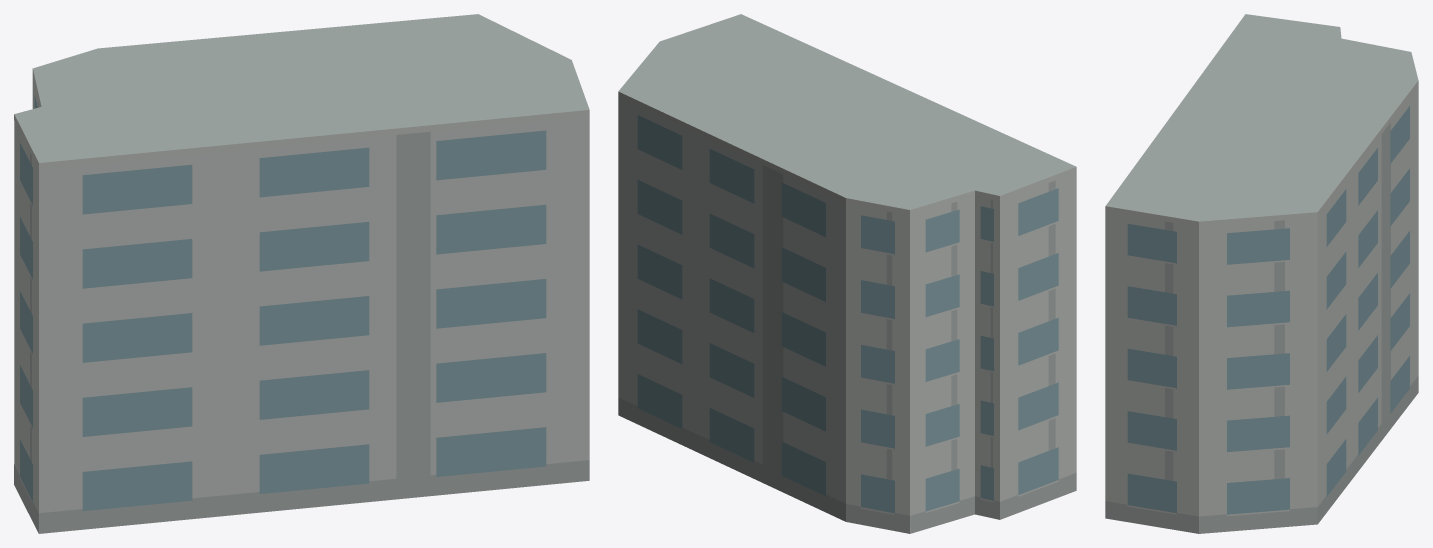
Rendered from survey-upis-32638380.glb.
3 renders of one model, left to right at view 1: azimuth 30°, elevation 25°; view 2: azimuth 150°, elevation 25°; view 3: azimuth 270°, elevation 25°, orthographic. The views are drawn at different scales.
Parts seen in each view (by area): view 1: survey-upis-32638380.tmp; view 2: survey-upis-32638380.tmp; view 3: survey-upis-32638380.tmp.
Boxes of the visible parts, x1,y1,x2,y2 form: survey-upis-32638380.tmp: (14, 14, 589, 533); survey-upis-32638380.tmp: (618, 14, 1076, 533); survey-upis-32638380.tmp: (1105, 14, 1418, 533).
Size of the model in its own units: 19.97 by 14 by 12.73.
